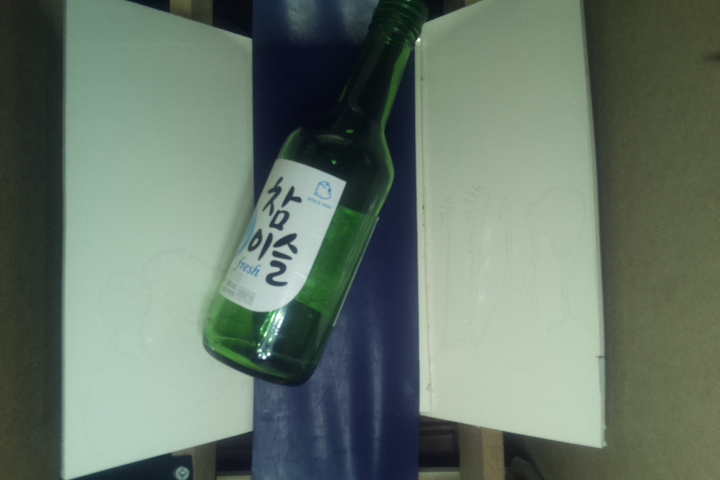soju: (201, 1, 431, 387)
